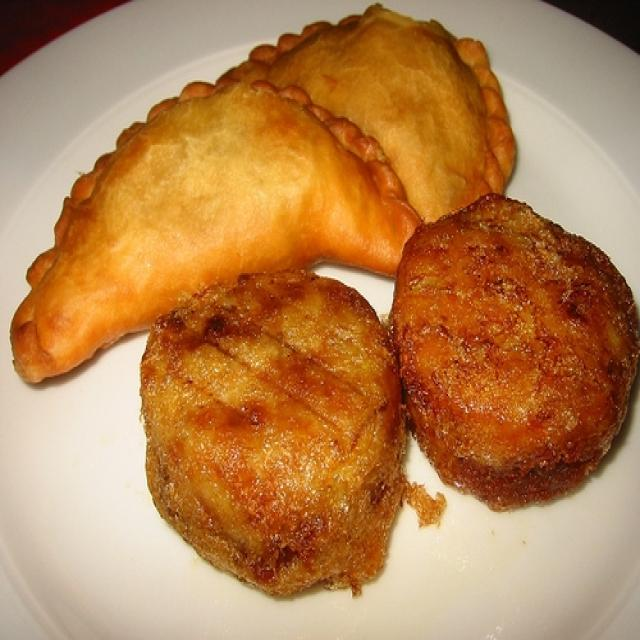炸货点心: (9, 12, 617, 599)
